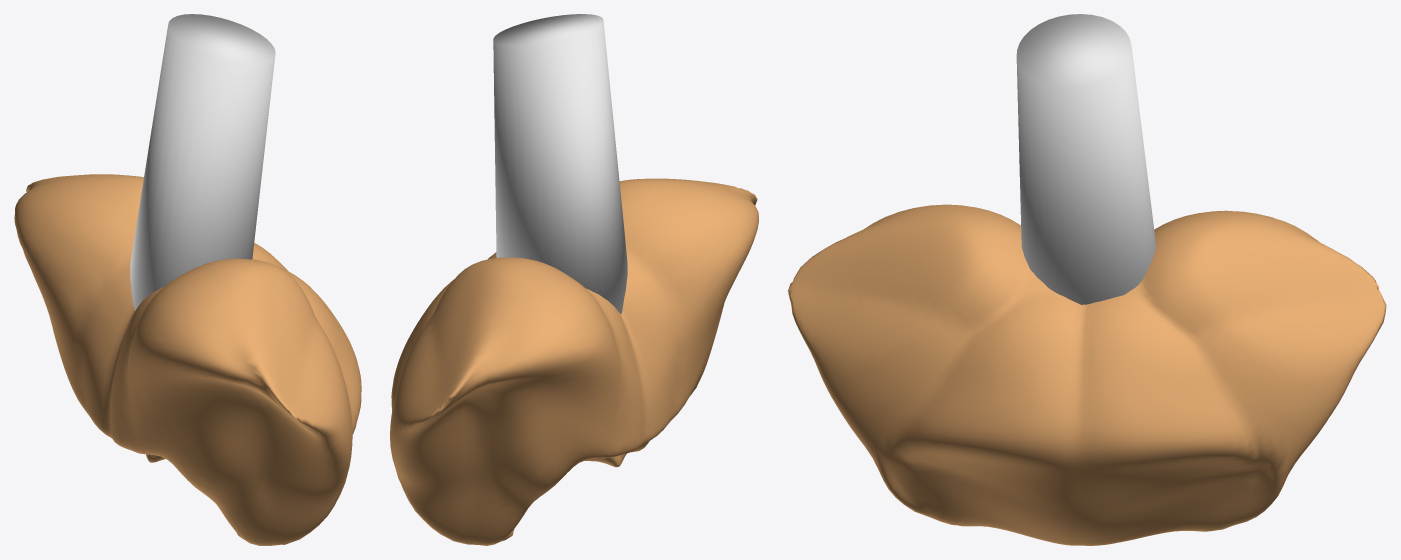
File: shoulders.fbx
3 renders of one model, left to right at view 1: azimuth 30°, elevation 25°; view 2: azimuth 150°, elevation 25°; view 3: azimuth 270°, elevation 25°, orthographic. The views are drawn at different scales.
Visible parts, largest first — view 1: shoulders; view 2: shoulders; view 3: shoulders.
Part boxes in pixels (x1,y1,x2,y2): shoulders: (14,14,361,545); shoulders: (390,14,758,545); shoulders: (787,14,1386,545).
Size of the model in its own units: 0.1884 by 0.3523 by 0.3872.
